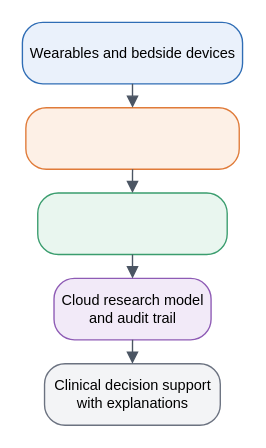
Some shapes in this 266 by 448 pixel diagram are drawn without their labels. Here are the shapes that lost their labels. From the top down, the centre of each, then its label:
At [132,137]: "Hospital edge: de-identification and local training".
At [131,223]: "Secure aggregation across hospitals (DP noise)".
